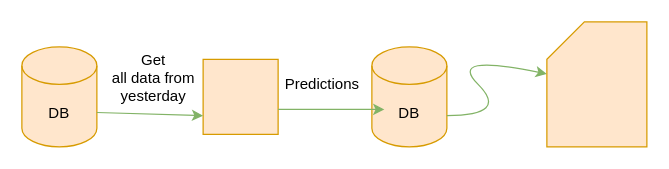
The diagram is 669 pixels wide and 169 high, and some of its shapes have lost their labels. Each missing label, with the centre of its shape:
Reports: the point at 596,84
Scoring Job: the point at 240,96
